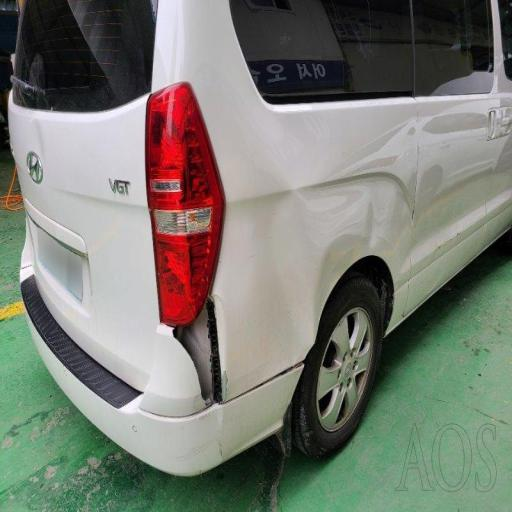broken: (152, 167, 246, 475)
